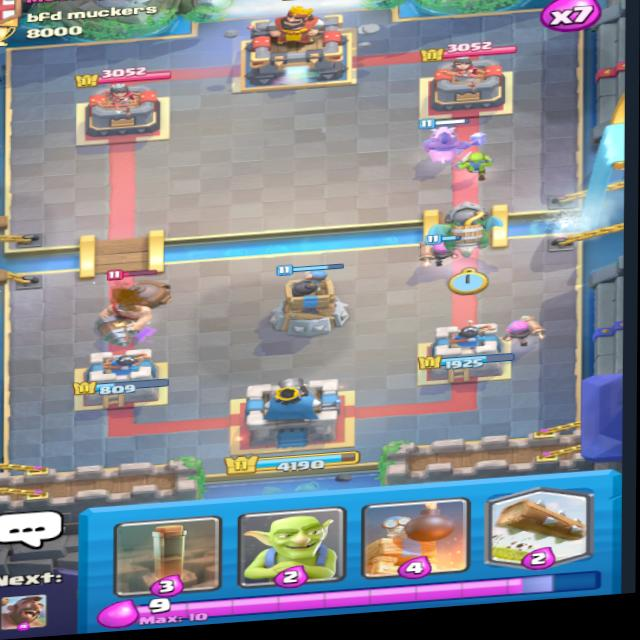mighty-miner: (90, 265, 175, 350)
